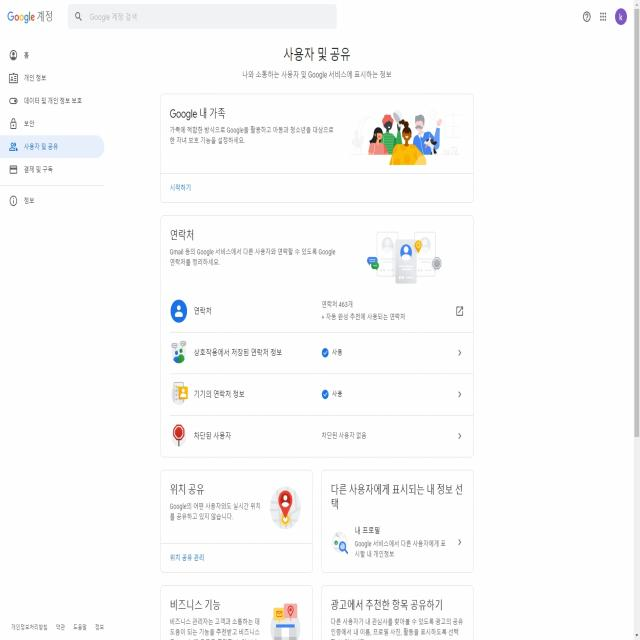search: (64, 2, 339, 34)
